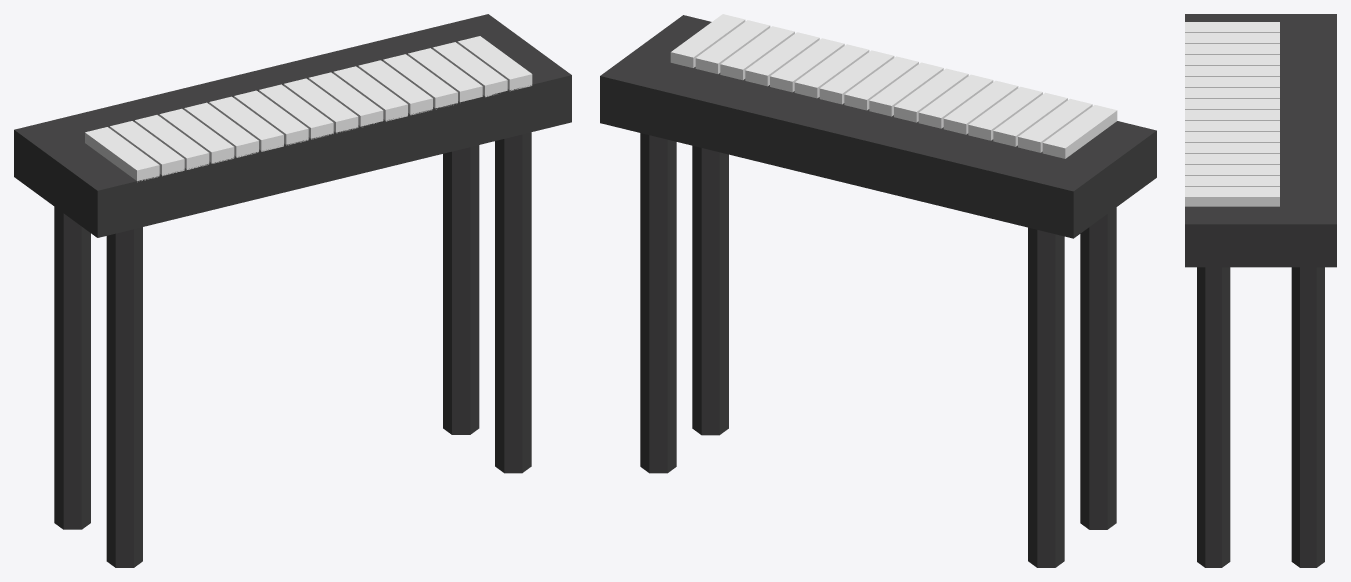
3 renders of one model, left to right at view 1: azimuth 30°, elevation 25°; view 2: azimuth 150°, elevation 25°; view 3: azimuth 270°, elevation 25°, orthographic. The views are drawn at different scales.
Parts seen in each view (by area): view 1: Keyboard, Leg.002, Leg, Leg.001, Leg.003, White key, White key.015, White key.003, White key.002, White key.001, White key.005, White key.007 (+9 smaller); view 2: Keyboard, Leg.003, Leg.001, Leg, Leg.002, White key, White key.009, White key.008, White key.004, White key.013, White key.014, White key.003 (+9 smaller); view 3: Keyboard, Leg.002, Leg.003, White key.015, White key, White key.001, White key.002, White key.003, White key.004, White key.005, White key.006, White key.007 (+7 smaller).
Boxes of the visible parts, box(x1,y1,x2,y2) form: Keyboard: box(14, 14, 571, 237); Leg.002: box(495, 132, 531, 473); Leg: box(106, 227, 142, 567); Leg.001: box(54, 207, 90, 529); Leg.003: box(443, 145, 479, 434); White key: box(85, 127, 159, 182); White key.015: box(457, 36, 532, 91); White key.003: box(159, 108, 234, 163); White key.002: box(134, 115, 209, 169); White key.001: box(109, 121, 184, 176); White key.005: box(209, 96, 283, 151); White key.007: box(259, 84, 333, 139); Keyboard: box(600, 15, 1156, 238); Leg.003: box(640, 133, 676, 473); Leg.001: box(1028, 227, 1064, 567); Leg: box(1080, 207, 1116, 529); Leg.002: box(692, 145, 728, 435); White key: box(1042, 105, 1117, 158); White key.009: box(819, 50, 894, 104); White key.008: box(844, 56, 918, 110); White key.004: box(943, 80, 1018, 134); White key.013: box(720, 26, 794, 80); White key.014: box(695, 20, 770, 73); White key.003: box(968, 86, 1042, 140); Keyboard: box(1185, 14, 1336, 267); Leg.002: box(1197, 267, 1230, 567); Leg.003: box(1291, 267, 1324, 567); White key.015: box(1185, 187, 1279, 206); White key: box(1185, 22, 1279, 32); White key.001: box(1185, 33, 1279, 43); White key.002: box(1185, 44, 1279, 54); White key.003: box(1185, 55, 1279, 65); White key.004: box(1185, 66, 1279, 76); White key.005: box(1185, 77, 1279, 87); White key.006: box(1185, 88, 1279, 98); White key.007: box(1185, 99, 1279, 109).
Size of the model in its own units: 105 by 85.25 by 32.
